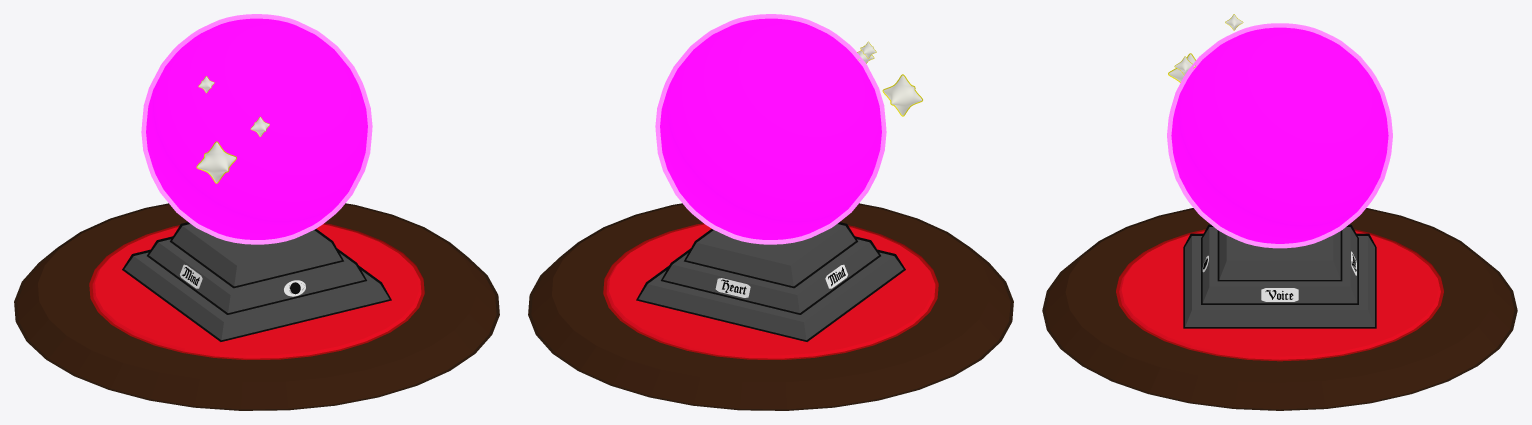
The model's file is crystal.glb.
3 renders of one model, left to right at view 1: azimuth 30°, elevation 25°; view 2: azimuth 150°, elevation 25°; view 3: azimuth 270°, elevation 25°, orthographic. The views are drawn at different scales.
Visible parts, largest first — view 1: Crystal ball_7, Pedestal_8, Pedestal.001_12, Stand.001_5, Stand_4, Stand.002_6, Shine_9; view 2: Crystal ball_7, Pedestal_8, Pedestal.001_12, Stand.001_5, Stand_4, Stand.002_6, Shine_9, Heart_plaque_1; view 3: Crystal ball_7, Pedestal_8, Pedestal.001_12, Stand.001_5, Stand_4, Stand.002_6, Voice_plaque_3.
Part boxes in pixels (box(x1,y1,x2,y2)): Crystal ball_7: box(141, 14, 372, 244); Pedestal_8: box(14, 203, 499, 410); Pedestal.001_12: box(89, 223, 424, 359); Stand.001_5: box(122, 249, 391, 341); Stand_4: box(170, 222, 343, 288); Stand.002_6: box(147, 236, 366, 314); Shine_9: box(196, 141, 236, 183); Crystal ball_7: box(655, 14, 886, 244); Pedestal_8: box(528, 203, 1013, 410); Pedestal.001_12: box(603, 223, 938, 359); Stand.001_5: box(636, 249, 905, 341); Stand_4: box(684, 222, 857, 288); Stand.002_6: box(661, 236, 880, 314); Shine_9: box(882, 74, 922, 116); Heart_plaque_1: box(715, 278, 750, 297); Crystal ball_7: box(1167, 23, 1392, 248); Pedestal_8: box(1042, 208, 1517, 410); Pedestal.001_12: box(1116, 229, 1443, 361); Stand.001_5: box(1183, 233, 1376, 328); Stand_4: box(1217, 230, 1342, 281); Stand.002_6: box(1201, 224, 1358, 304); Voice_plaque_3: box(1261, 288, 1298, 301).
Bounding box in the file's own units: 16.89 × 10.87 × 16.89.
